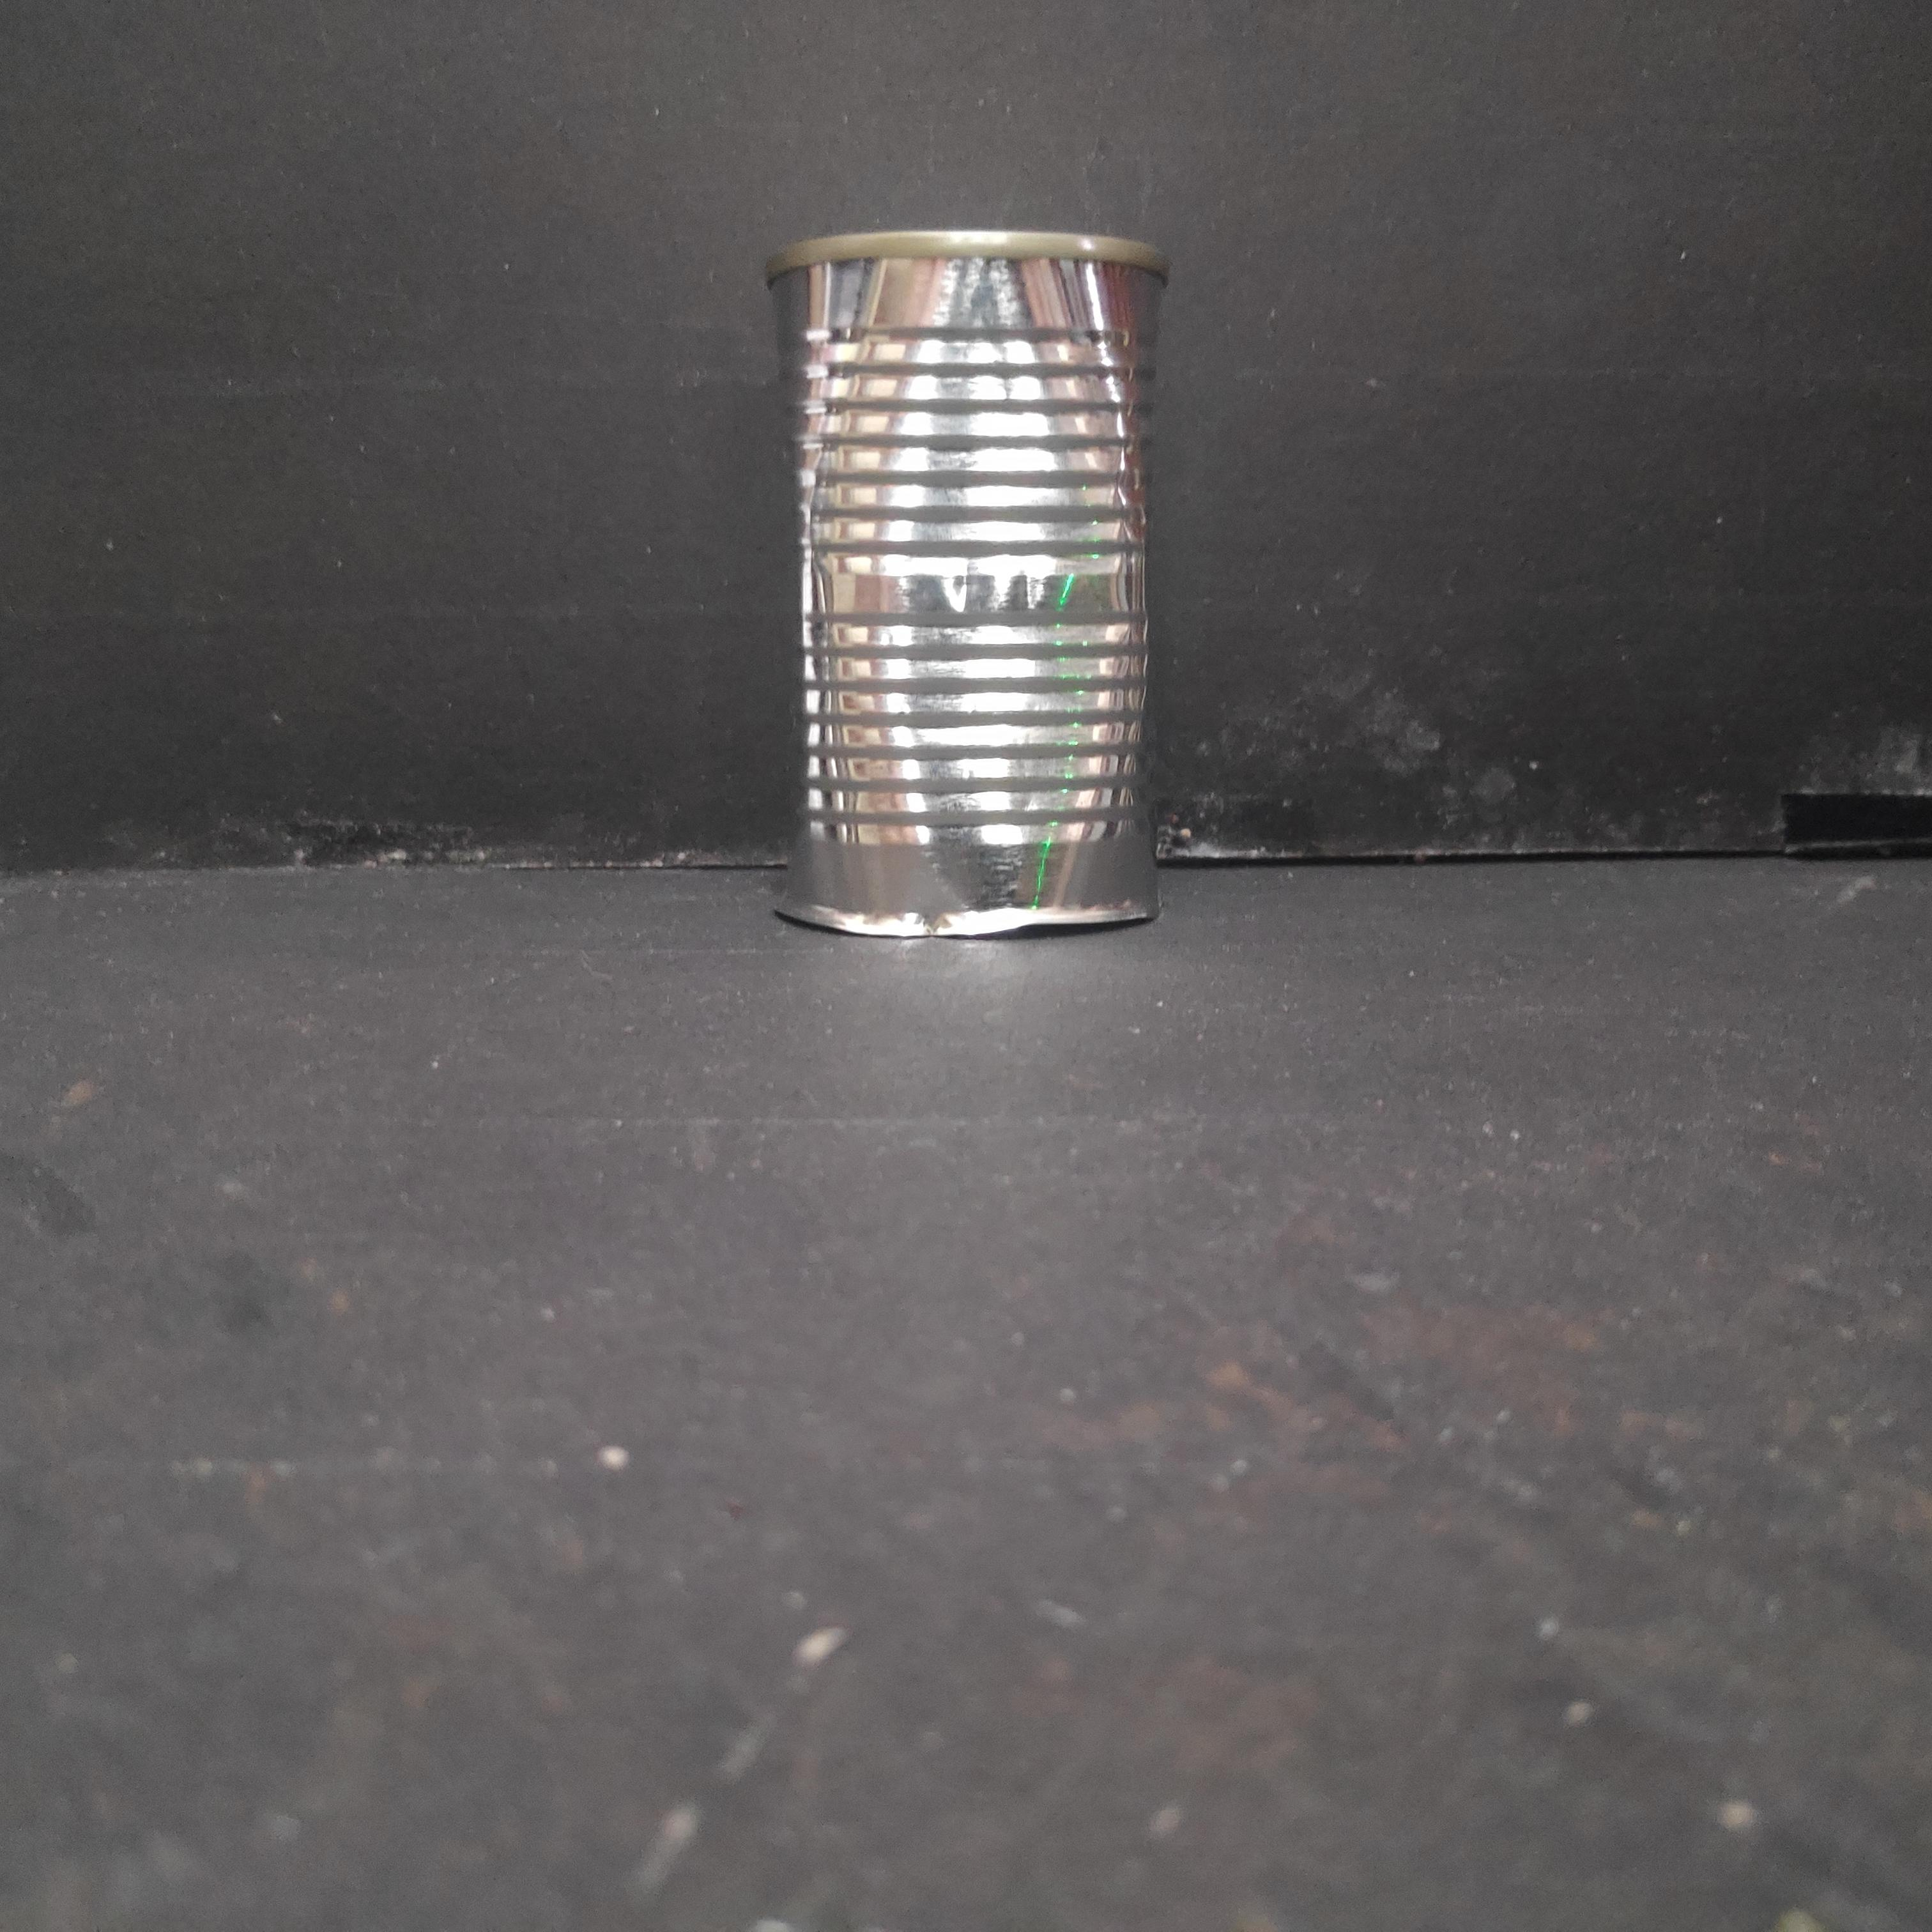Minor Defect: (759, 218, 1177, 945)
